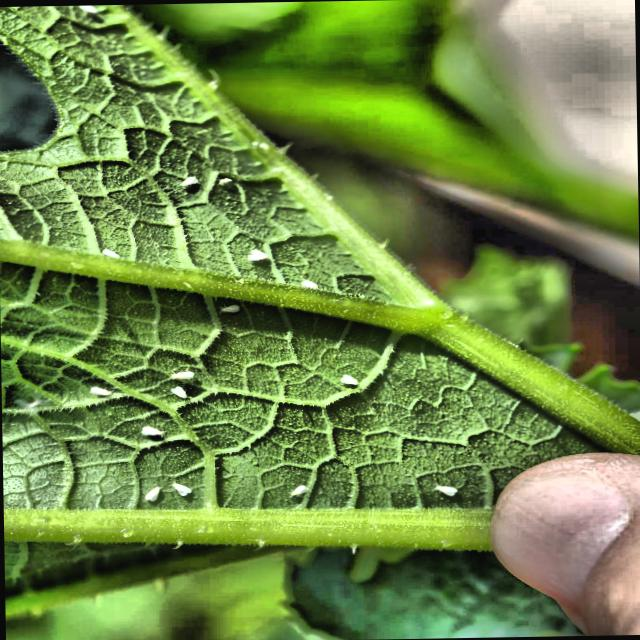whitefly: (172, 482, 192, 494), (247, 248, 267, 260), (435, 484, 456, 495), (339, 373, 358, 384), (170, 385, 187, 397), (141, 425, 163, 434), (145, 486, 160, 499), (290, 484, 309, 494), (90, 386, 112, 394), (180, 176, 198, 185), (171, 370, 193, 377), (301, 279, 317, 288), (102, 248, 119, 256), (221, 304, 238, 311), (79, 4, 96, 11), (218, 177, 232, 183)
